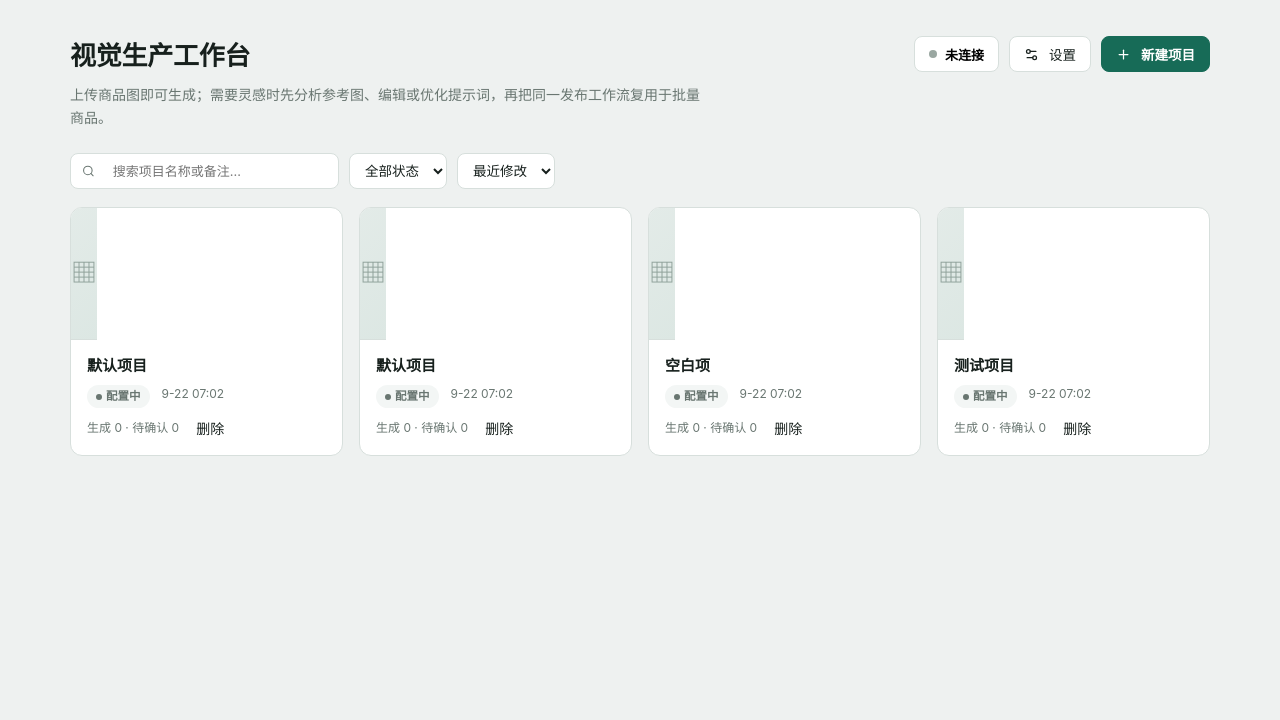
Test case: 新信息架构：项目首页 → 项目 Shell → 画布 › 在设置中保存 Key：Key 只进入 sessionStorage，画布模型状态变为已连接
This screenshot has width=1280, height=720.
Click the button with test id "open-settings": (1050,54) [1009,36,1091,72]
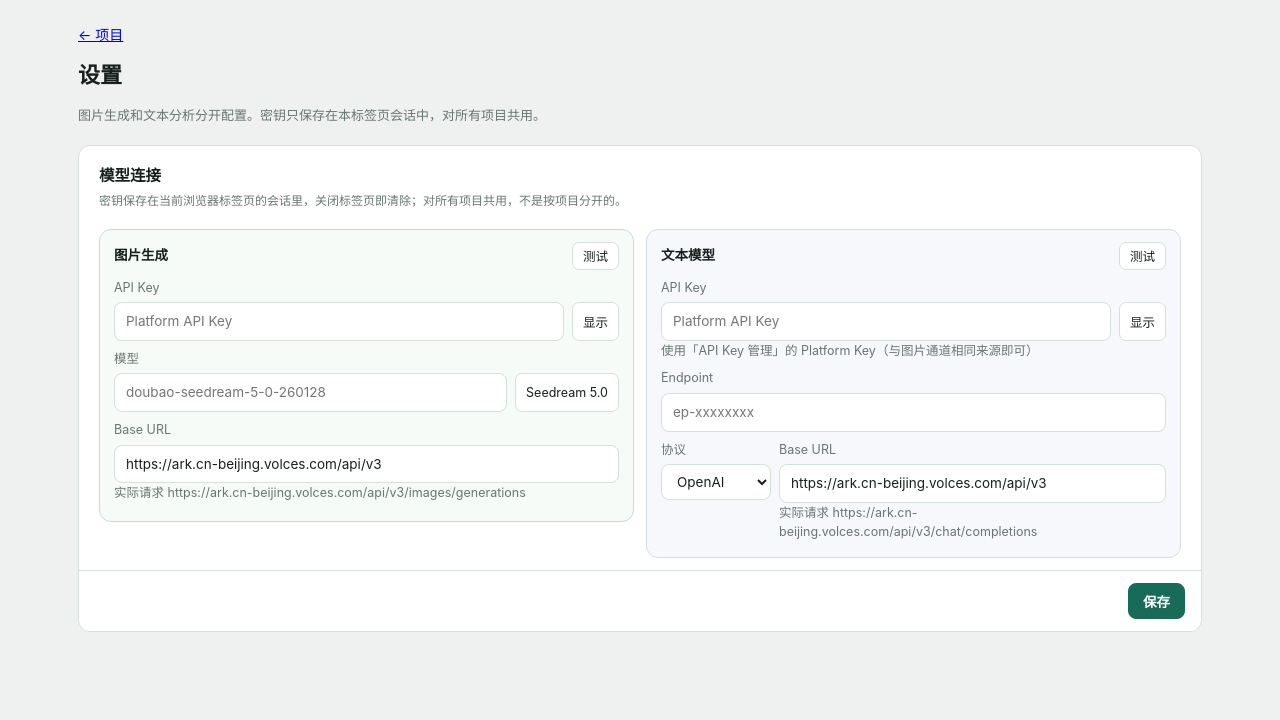
Result: the element with test id "settings-page" is shown
Result: the element with test id "settings-form" is shown at [99,224,1181,630]
In the password field with test id "image-apikey-input": (339,321) [114,302,564,341], type "sk-ui-secret-7777"
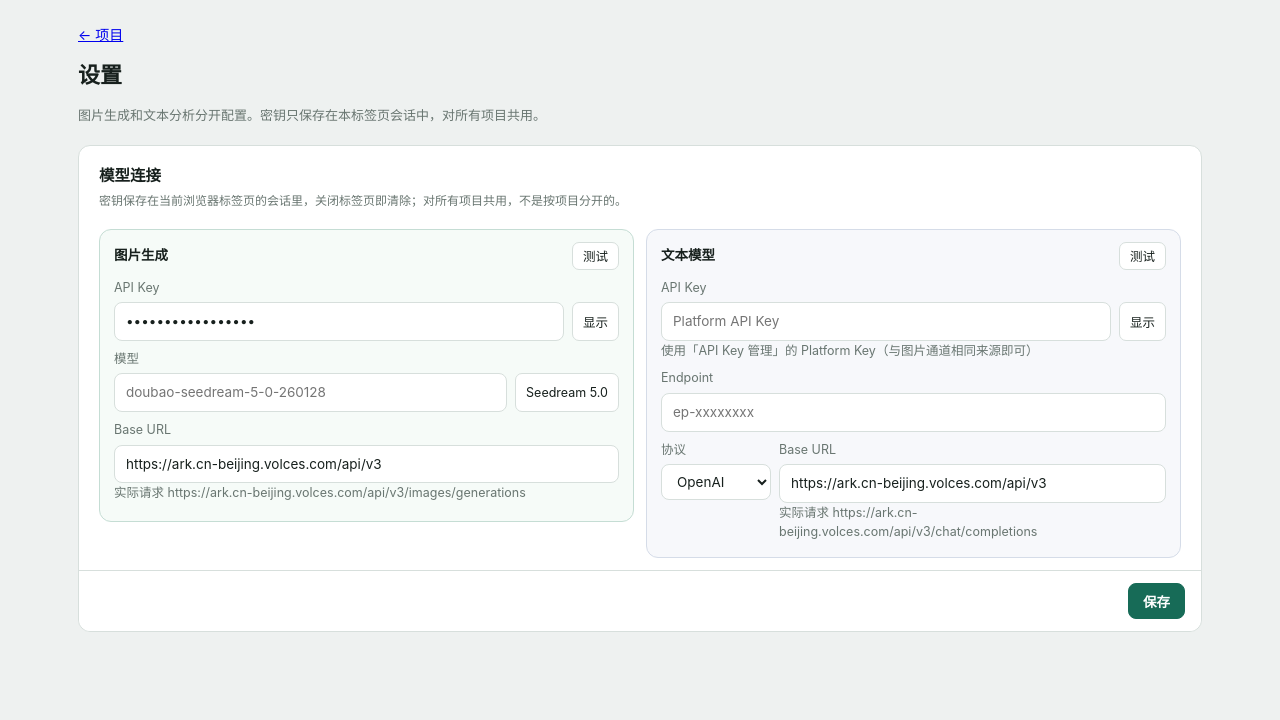
Click the button with test id "use-seedream-5": (567,393) [515,373,619,412]
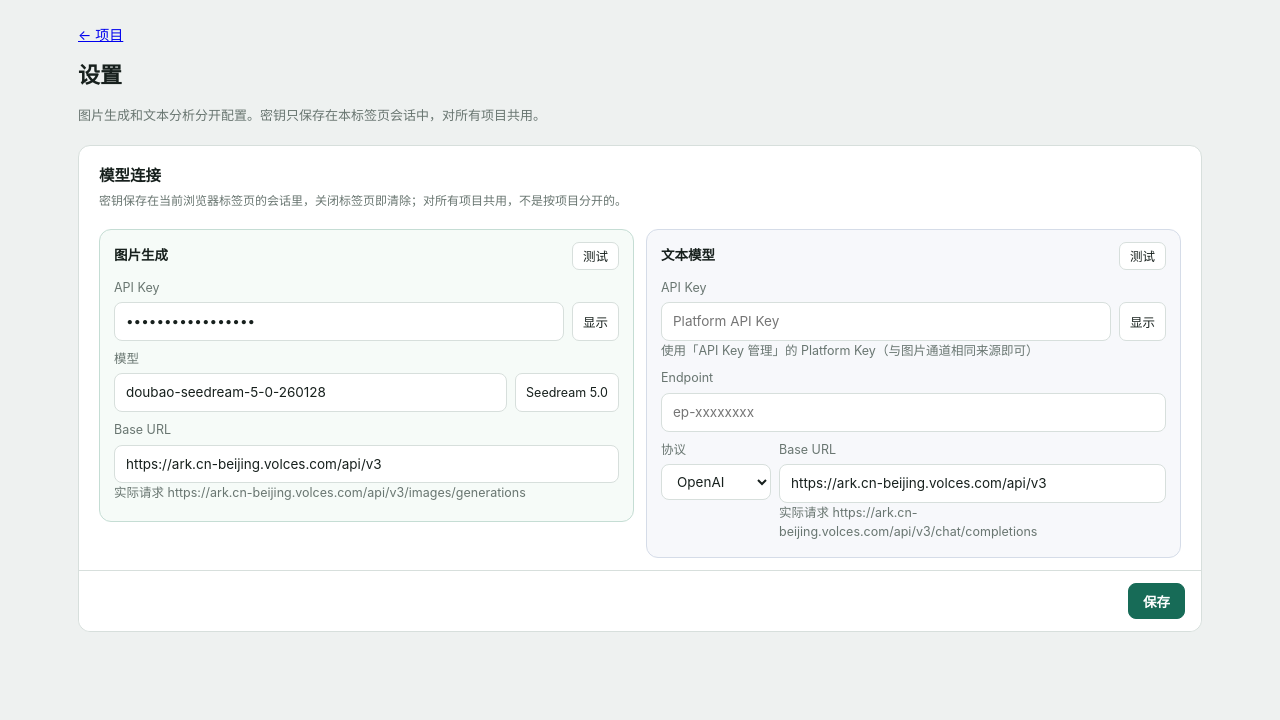
Click the button "保存": (1156,600) [1128,582,1185,618]
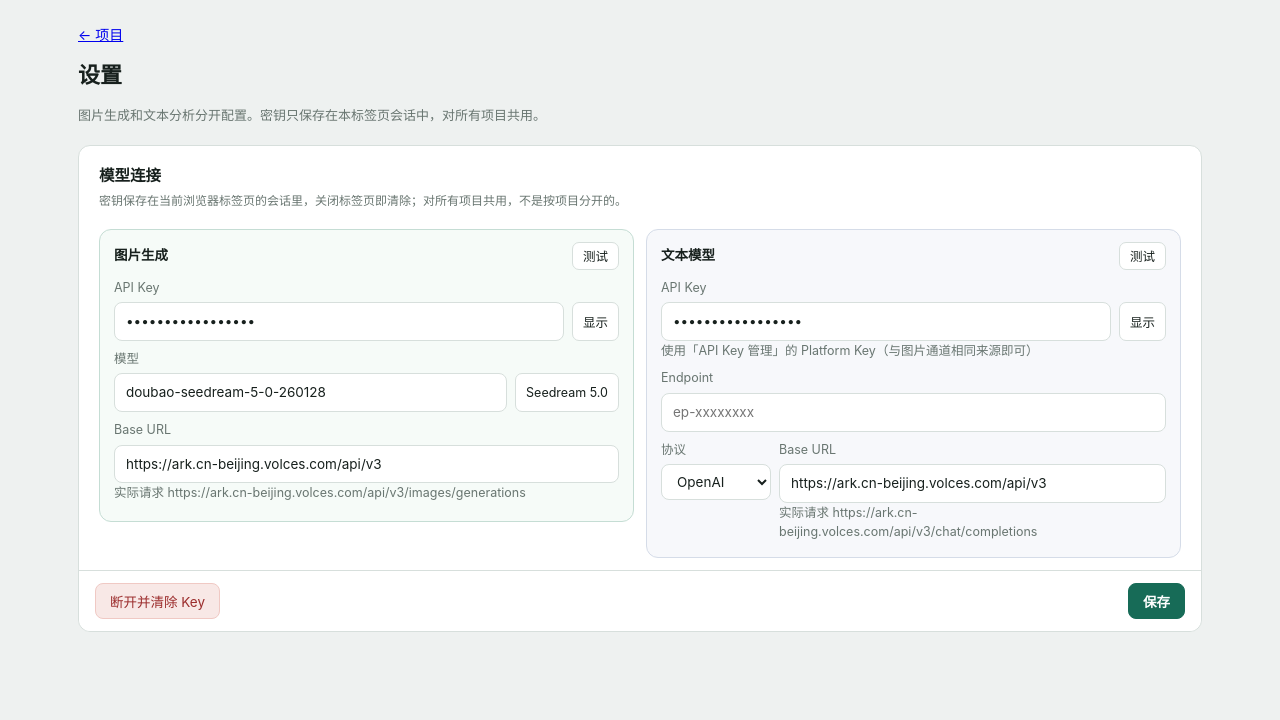
Click the link "← 项目": (101,35) [78,24,123,46]
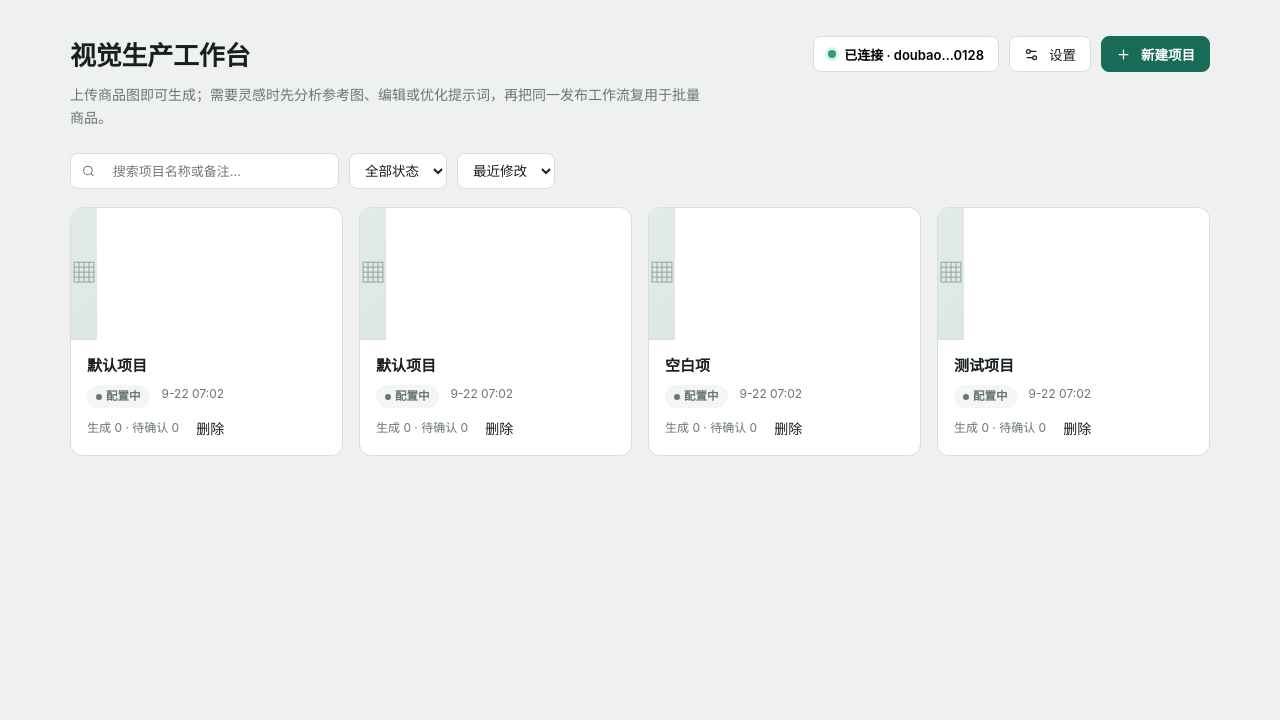
Result: the button with test id "model-connection" shows "已连接" at [813,36,999,72]
